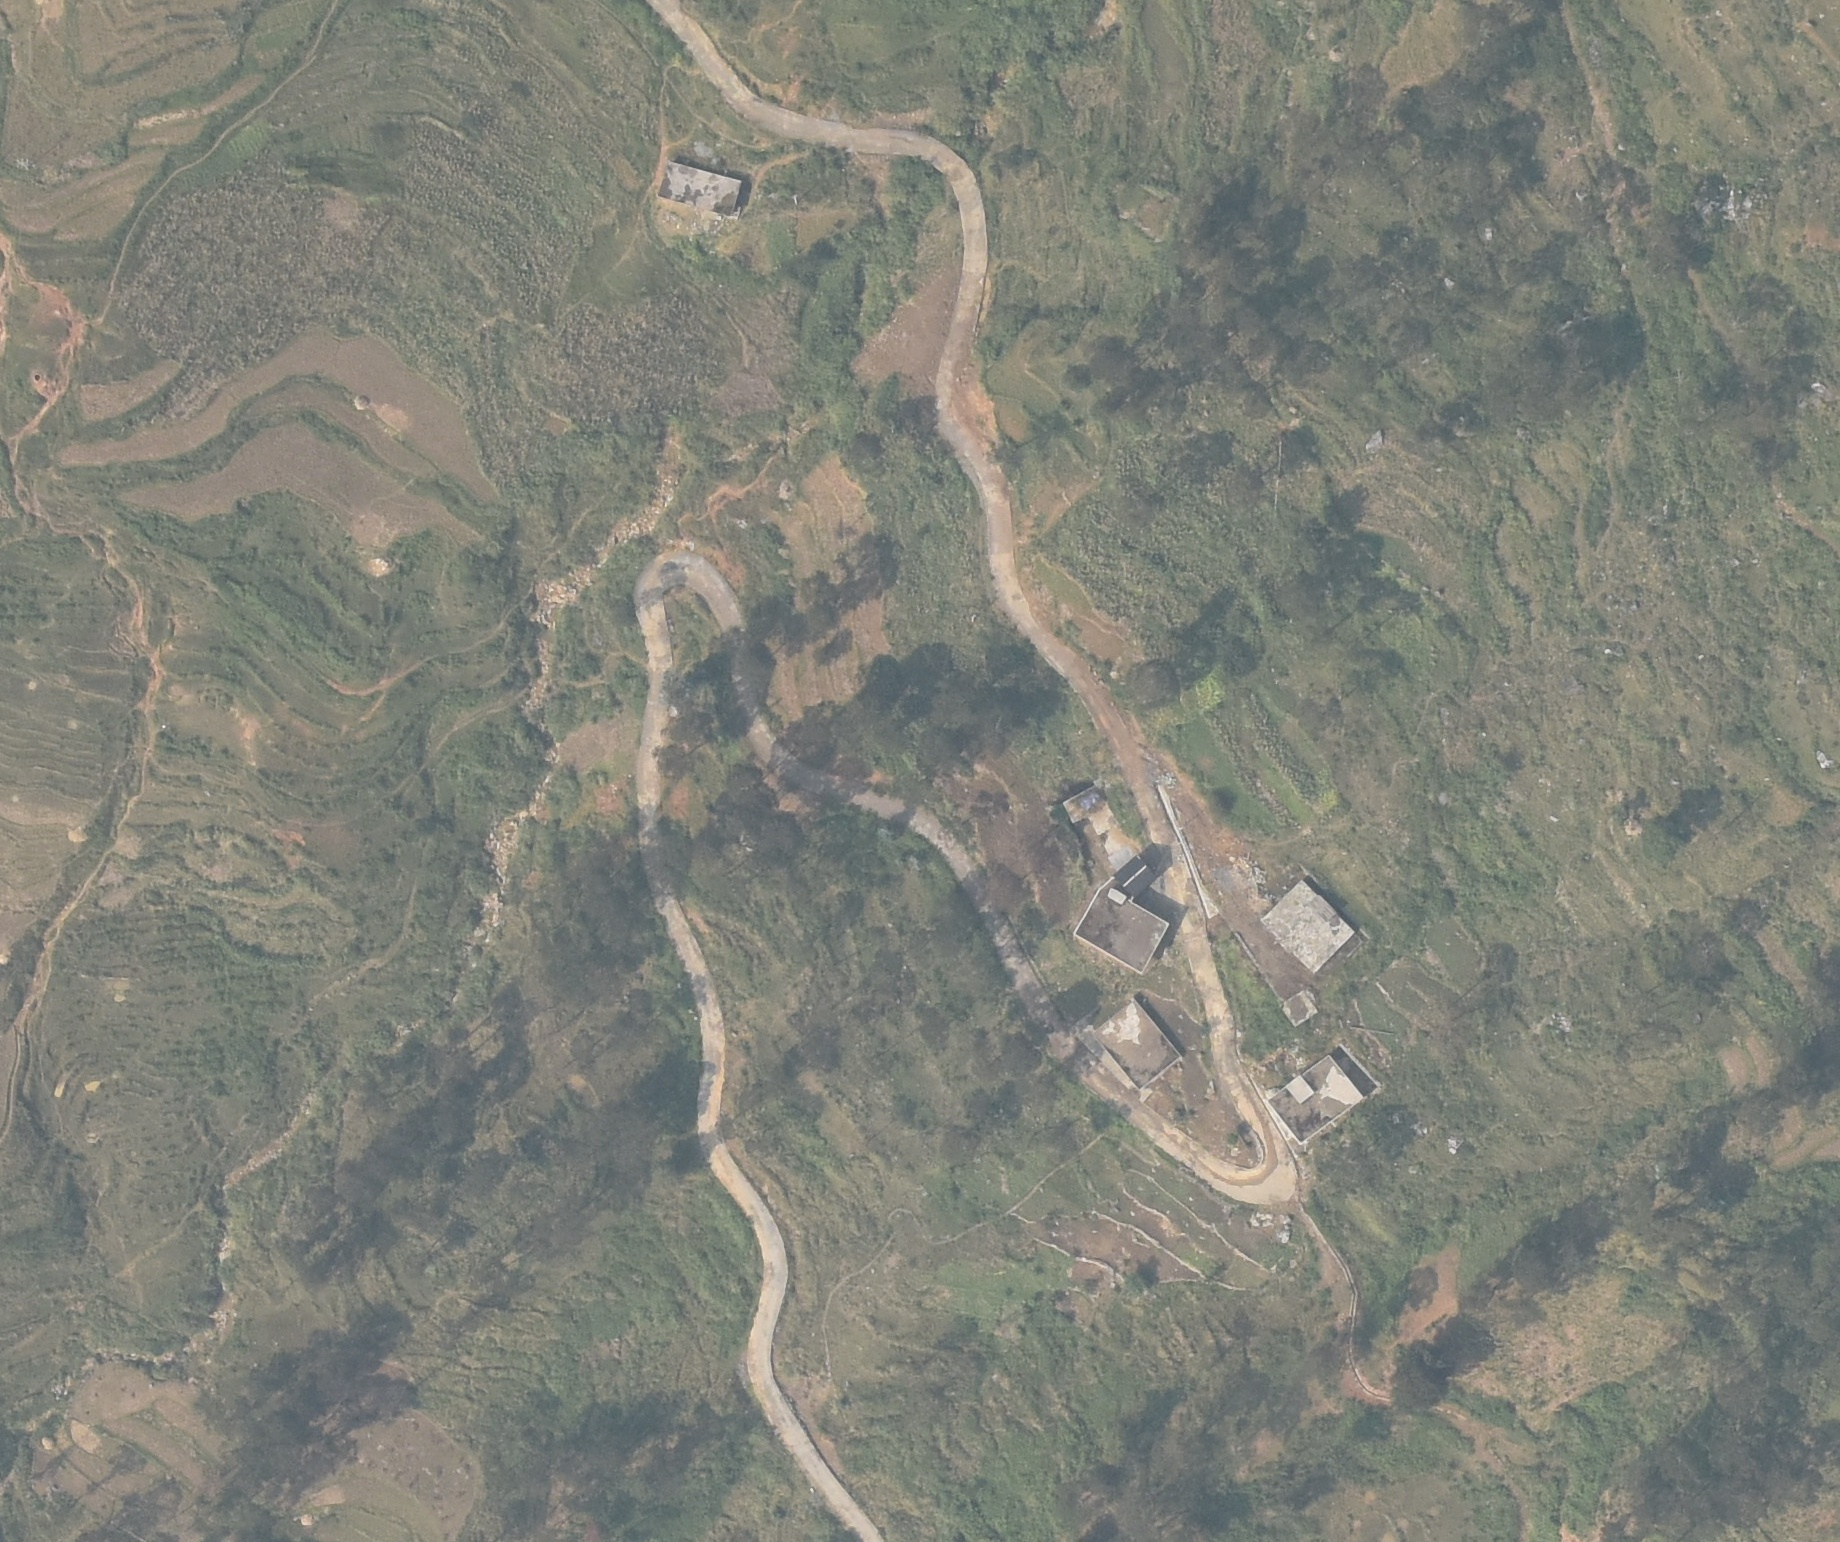building: (1264, 1044, 1397, 1144), (1261, 874, 1355, 978), (1081, 1006, 1193, 1089), (1075, 887, 1170, 975), (658, 156, 743, 225), (1112, 854, 1157, 896)
